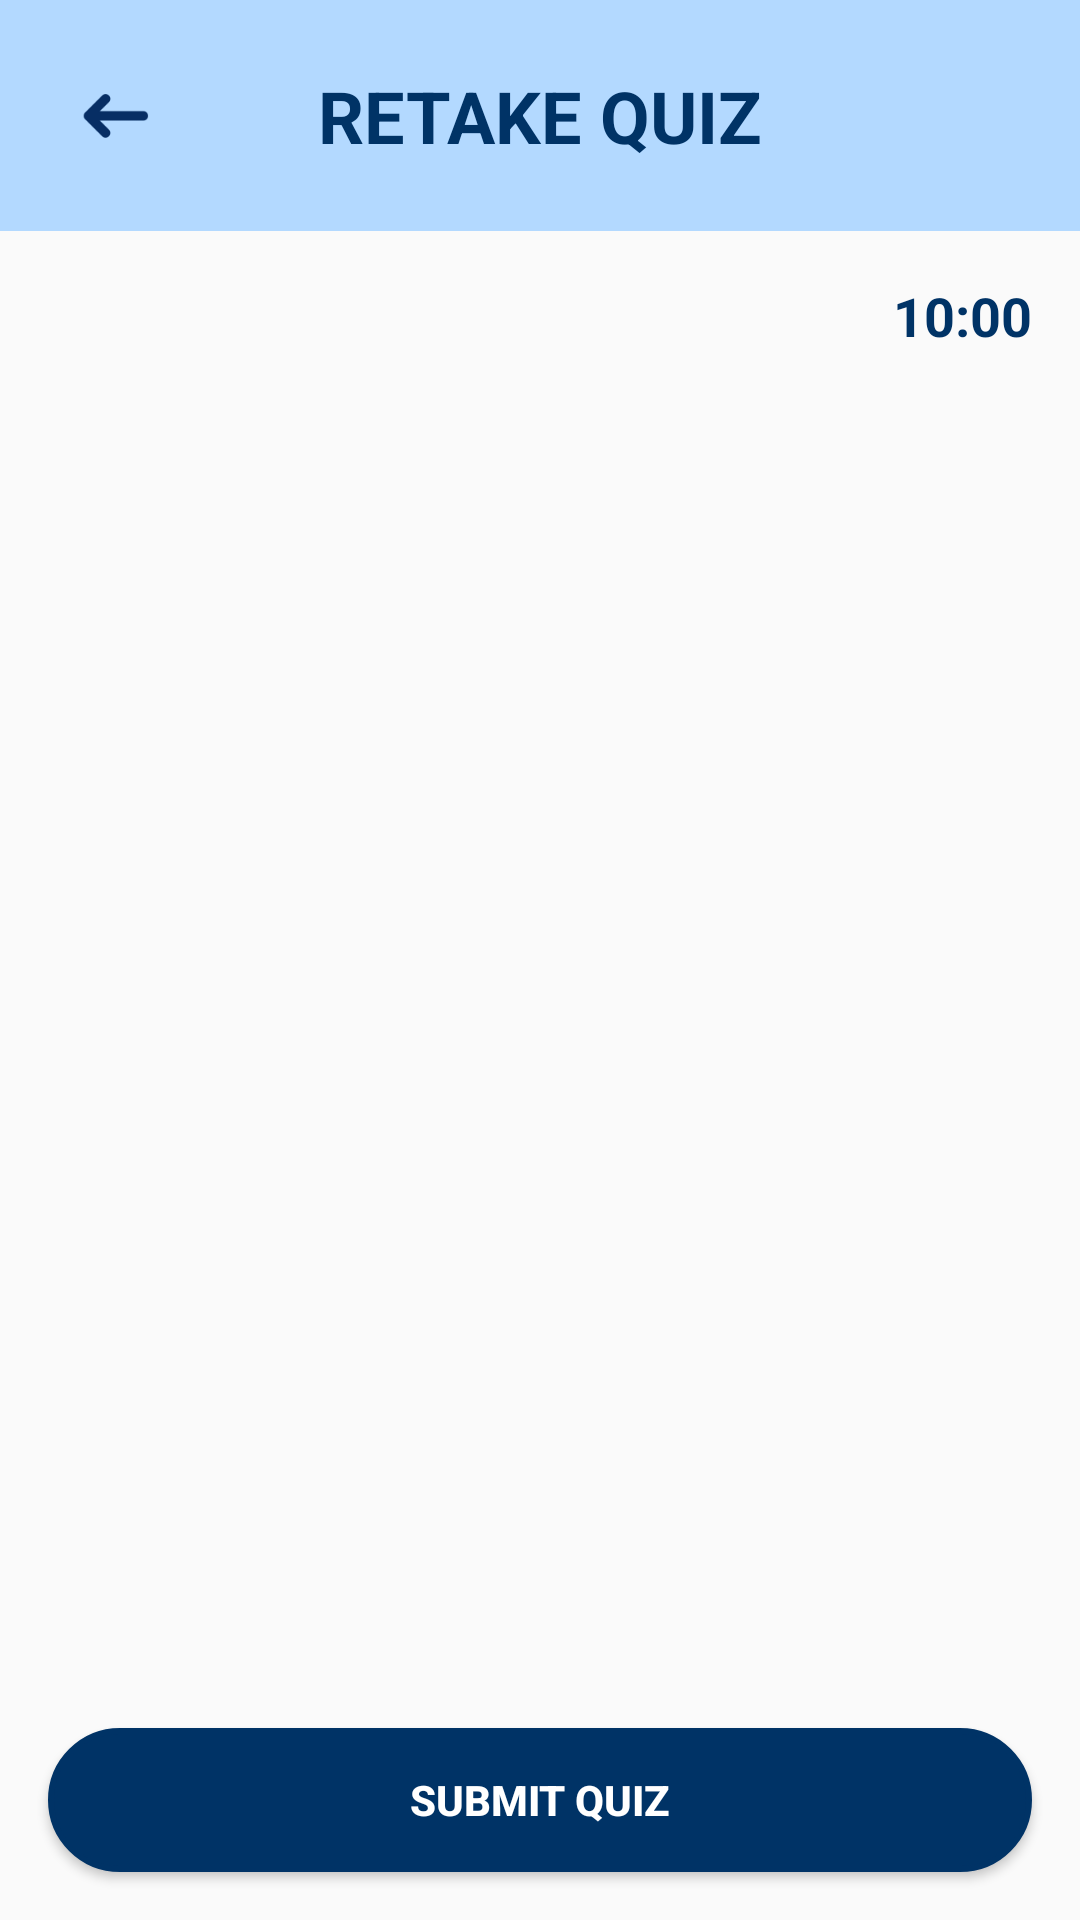

Where to tap for icons on this 1080×1920 app screen, as point (x, y):
Back: point (115, 116)
